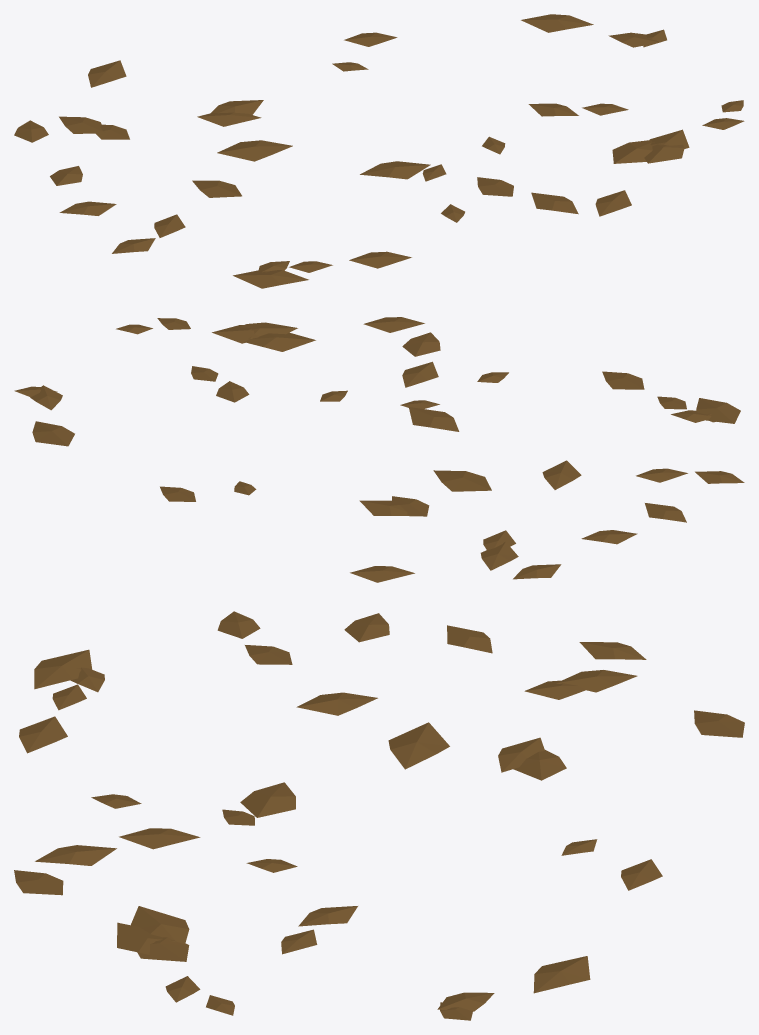
File: fallen-leaves.glb
3 renders of one model, top to bottom at view 1: azimuth 30°, elevation 25°; view 2: azimuth 150°, elevation 25°; view 3: azimuth 270°, elevation 25°, orthographic. The views are drawn at different scales.
Visible parts, largest first — view 1: Curled leaf.001, Curled leaf.032, Curled leaf.019, Curled leaf.009, Curled leaf.020, Curled leaf.026, Curled leaf.007, Curled leaf.021, Curled leaf.015, Curled leaf, Curled leaf.035, Curled leaf.033 (+9 smaller); view 2: Curled leaf.001, Curled leaf.020, Curled leaf.019, Curled leaf.032, Curled leaf.009, Curled leaf.021, Curled leaf.026, Curled leaf, Curled leaf.007, Curled leaf.015, Curled leaf.027, Curled leaf.004 (+10 smaller); view 3: Curled leaf.001, Curled leaf.032, Curled leaf.009, Curled leaf.019, Curled leaf.020, Curled leaf.021, Curled leaf.007, Curled leaf.015, Curled leaf.026, Curled leaf, Curled leaf.027, Curled leaf.035 (+13 smaller).
Boxes of the visible parts, x1=… form: Curled leaf.001: x1=217, y1=140, x2=292, y2=161; Curled leaf.032: x1=233, y1=270, x2=308, y2=288; Curled leaf.019: x1=360, y1=161, x2=430, y2=179; Curled leaf.009: x1=521, y1=14, x2=593, y2=32; Curled leaf.020: x1=612, y1=140, x2=652, y2=163; Curled leaf.026: x1=88, y1=60, x2=126, y2=87; Curled leaf.007: x1=531, y1=192, x2=578, y2=214; Curled leaf.021: x1=192, y1=180, x2=241, y2=197; Curled leaf.015: x1=349, y1=251, x2=411, y2=268; Curled leaf: x1=59, y1=116, x2=105, y2=133; Curled leaf.035: x1=595, y1=190, x2=631, y2=216; Curled leaf.033: x1=644, y1=142, x2=684, y2=163; Curled leaf.001: x1=433, y1=470, x2=491, y2=491; Curled leaf.020: x1=244, y1=332, x2=315, y2=351; Curled leaf.019: x1=408, y1=407, x2=459, y2=431; Curled leaf.032: x1=696, y1=398, x2=740, y2=423; Curled leaf.009: x1=32, y1=421, x2=74, y2=446; Curled leaf.021: x1=542, y1=460, x2=581, y2=489; Curled leaf.026: x1=350, y1=566, x2=414, y2=582; Curled leaf: x1=480, y1=541, x2=518, y2=570; Curled leaf.007: x1=402, y1=332, x2=440, y2=356; Curled leaf.015: x1=602, y1=371, x2=644, y2=389; Curled leaf.027: x1=402, y1=361, x2=438, y2=387; Curled leaf.004: x1=359, y1=500, x2=418, y2=516; Curled leaf.001: x1=388, y1=722, x2=449, y2=769; Curled leaf.032: x1=34, y1=649, x2=92, y2=689; Curled leaf.009: x1=533, y1=956, x2=590, y2=993; Curled leaf.019: x1=240, y1=782, x2=295, y2=817; Curled leaf.020: x1=131, y1=906, x2=189, y2=943; Curled leaf.021: x1=296, y1=692, x2=377, y2=715; Curled leaf.007: x1=35, y1=845, x2=116, y2=865; Curled leaf.015: x1=19, y1=716, x2=67, y2=753; Curled leaf.026: x1=694, y1=710, x2=744, y2=737; Curled leaf: x1=556, y1=670, x2=637, y2=692; Curled leaf.027: x1=119, y1=828, x2=200, y2=849; Curled leaf.035: x1=14, y1=870, x2=63, y2=895.
Bounding box in the file's own units: 1.82 × 0.0119 × 1.37.
